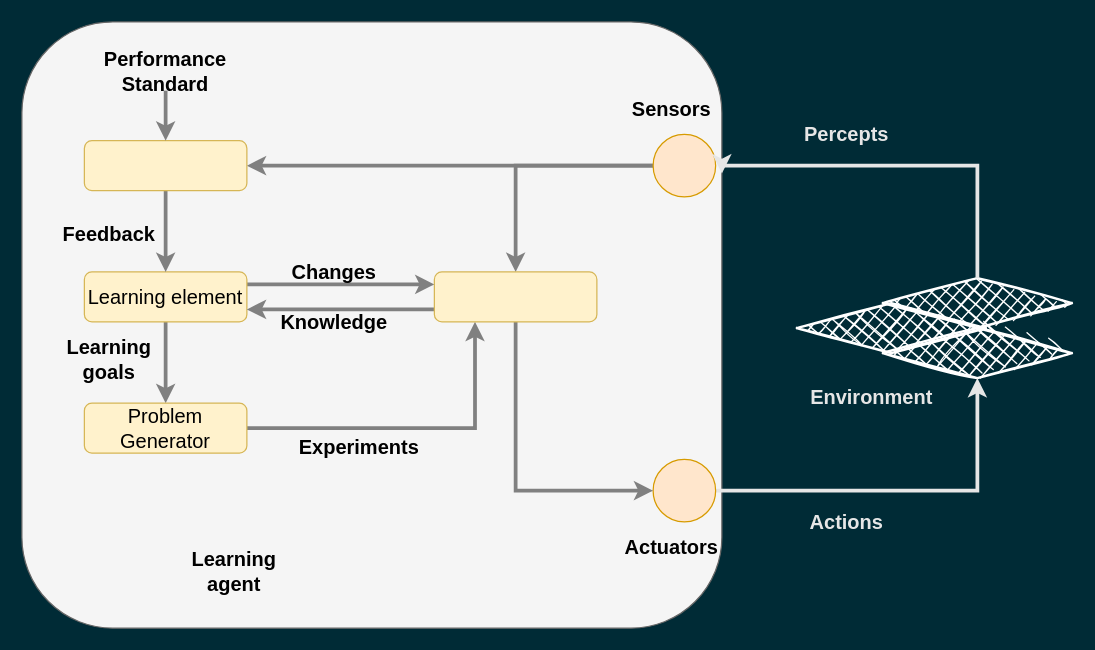
Image size: 1095x650. Some labels were removed from this diagram. Each missing label, with the centre of its shape:
Critic: point 165,165
Performance element: point 515,296
